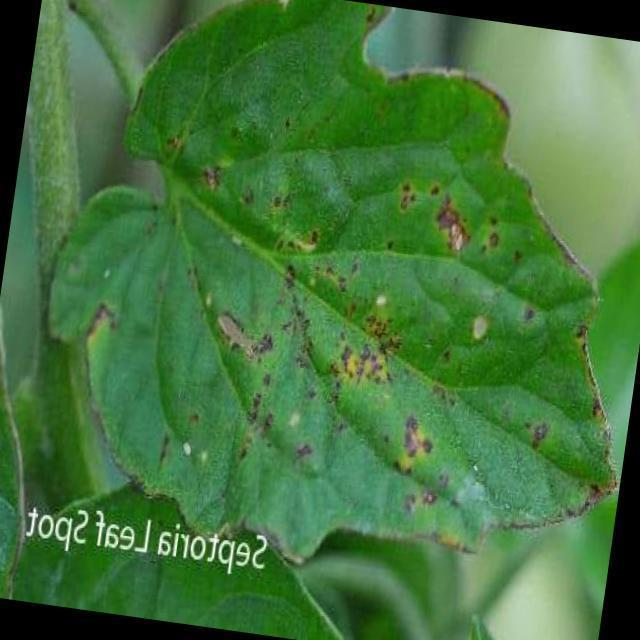Bacterial Spot: (101, 108, 581, 546)
